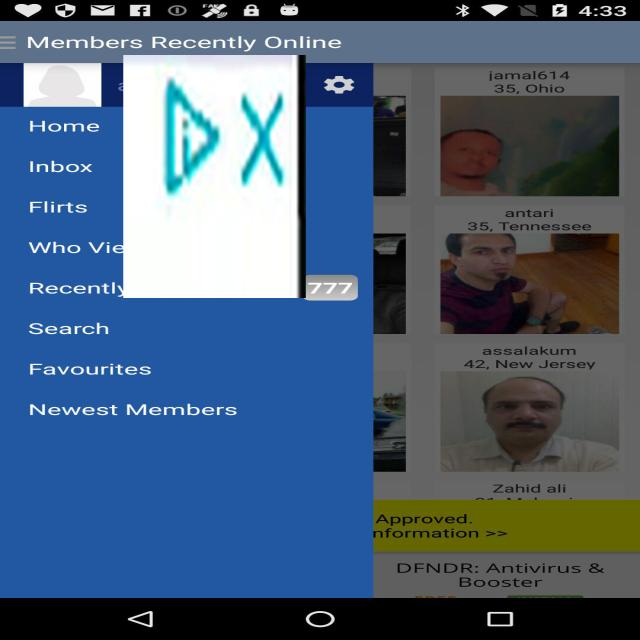sneaking: (123, 55, 306, 298)
